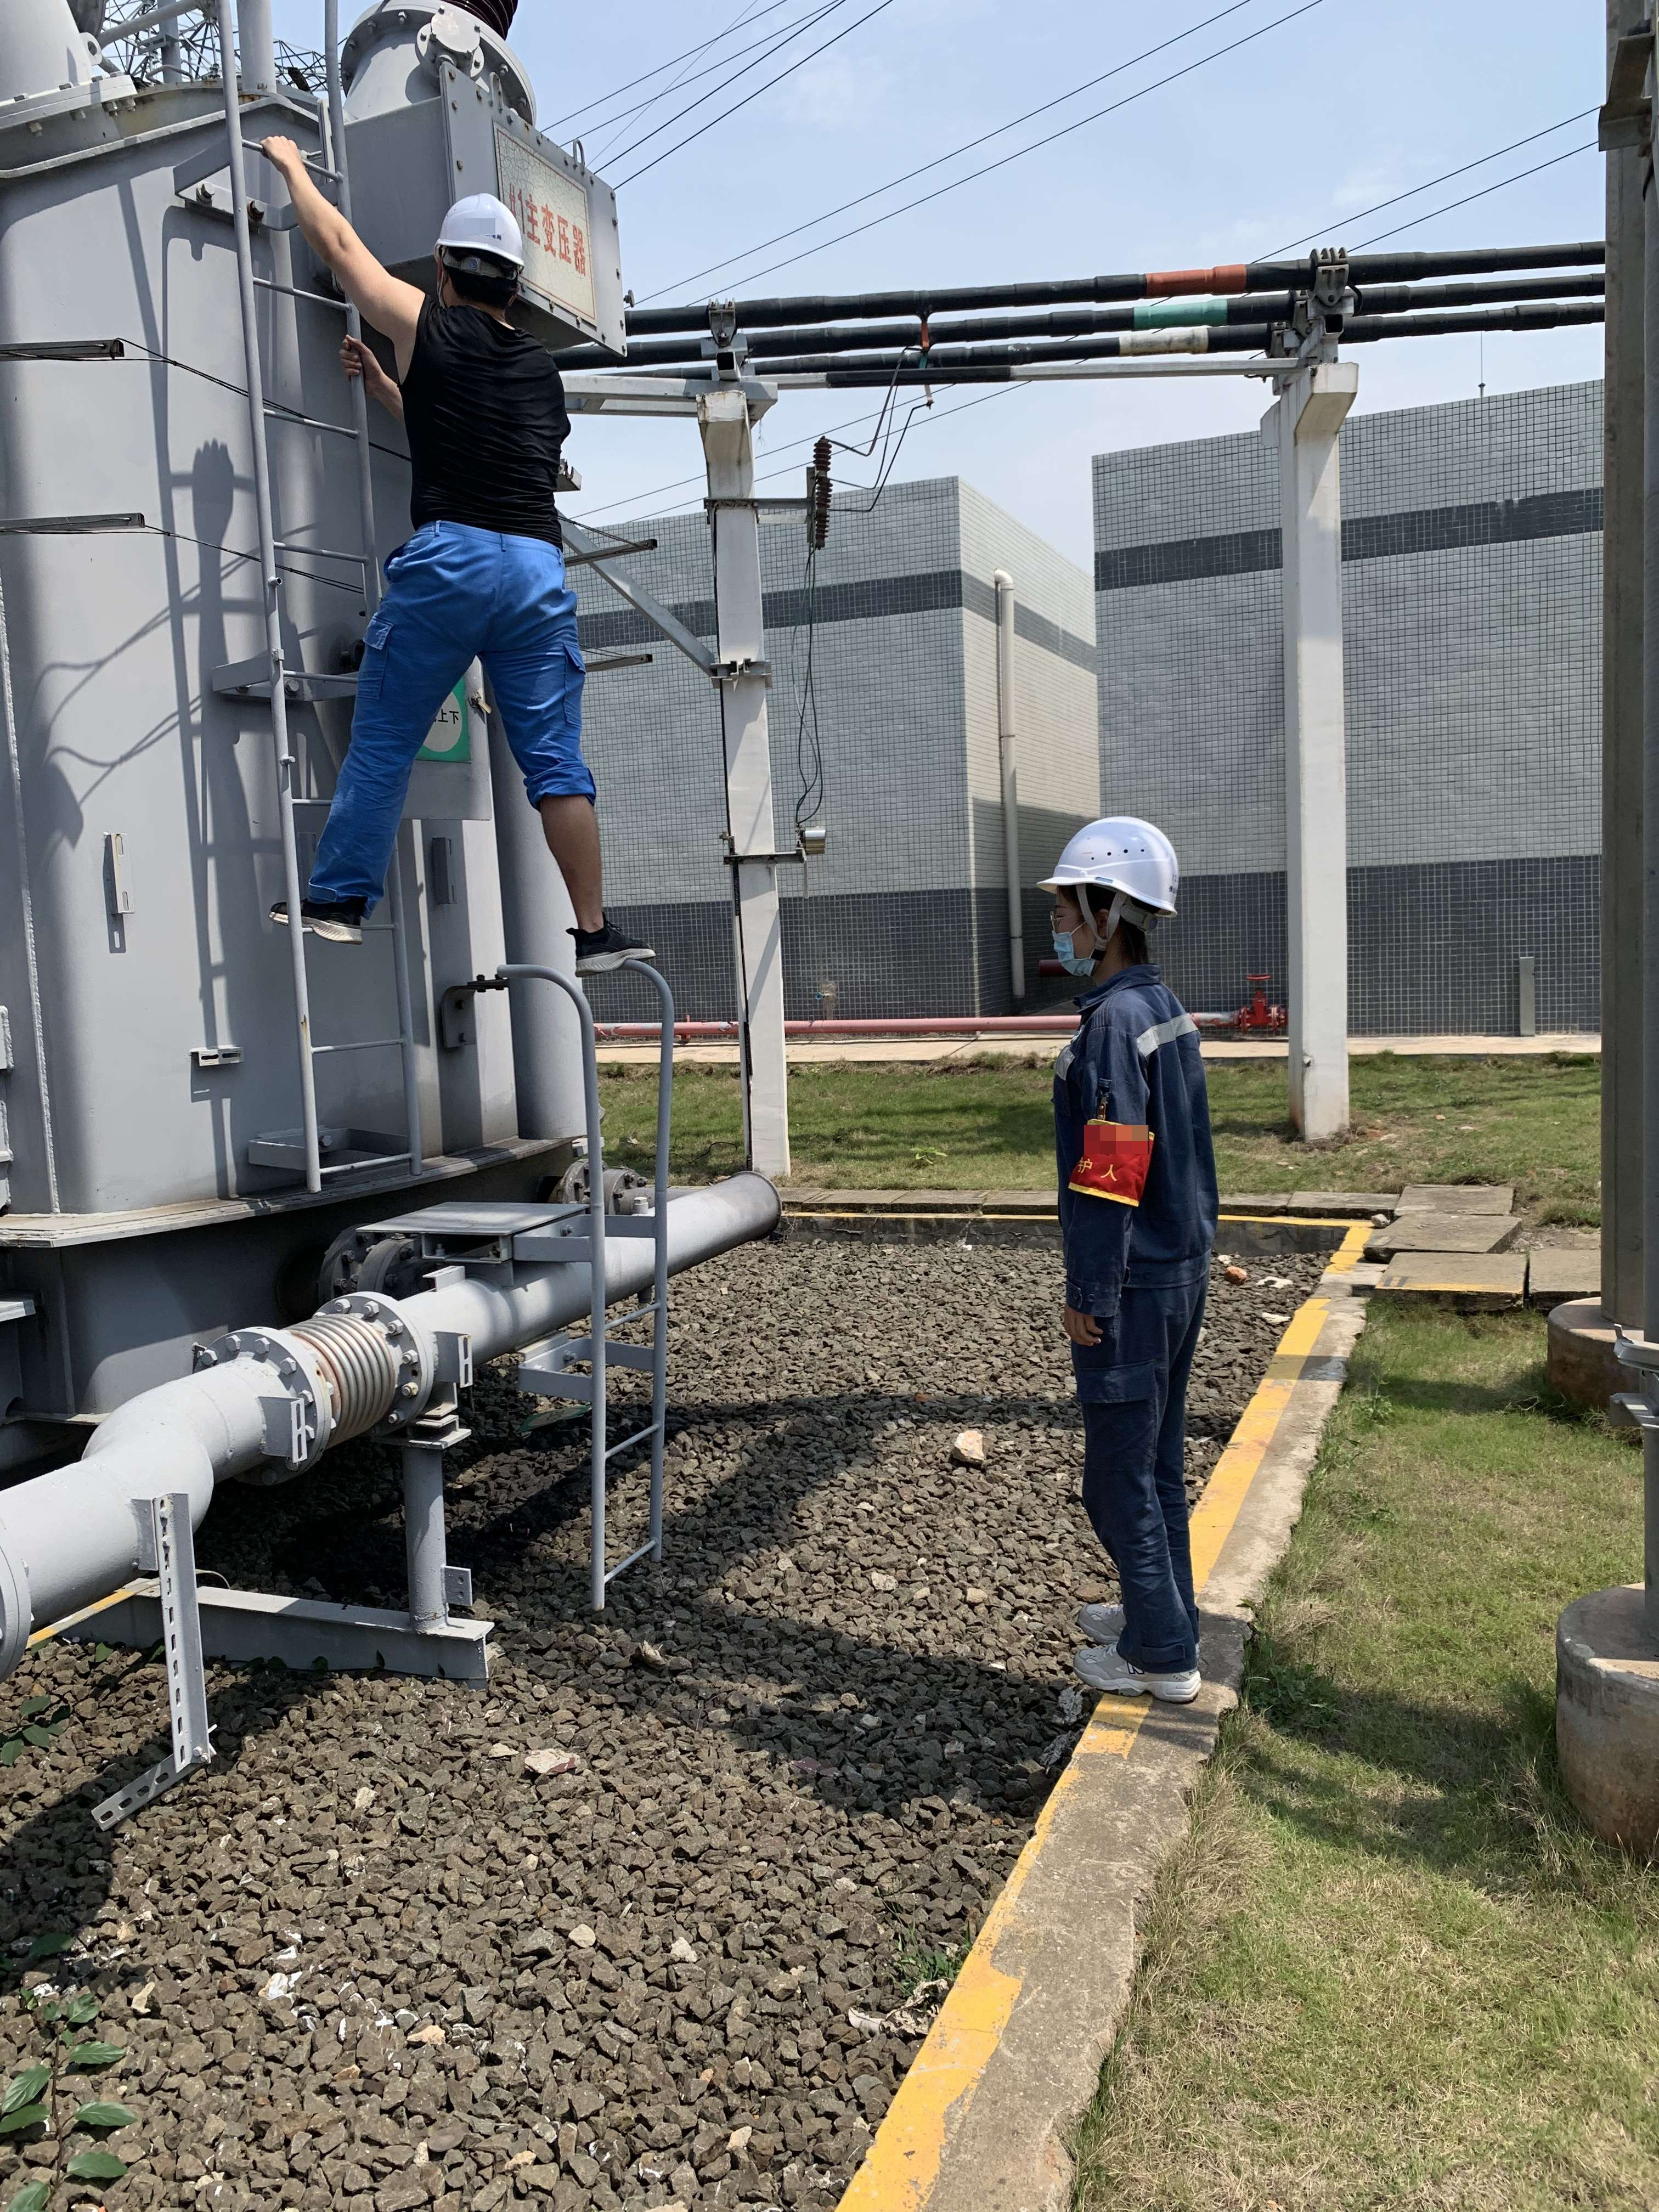downsuit: (314, 528, 606, 892), (1061, 1310, 1215, 1660)
upcloth: (396, 296, 572, 521)
upsuit: (1051, 963, 1225, 1282)
wrongbottom: (525, 765, 612, 939)
